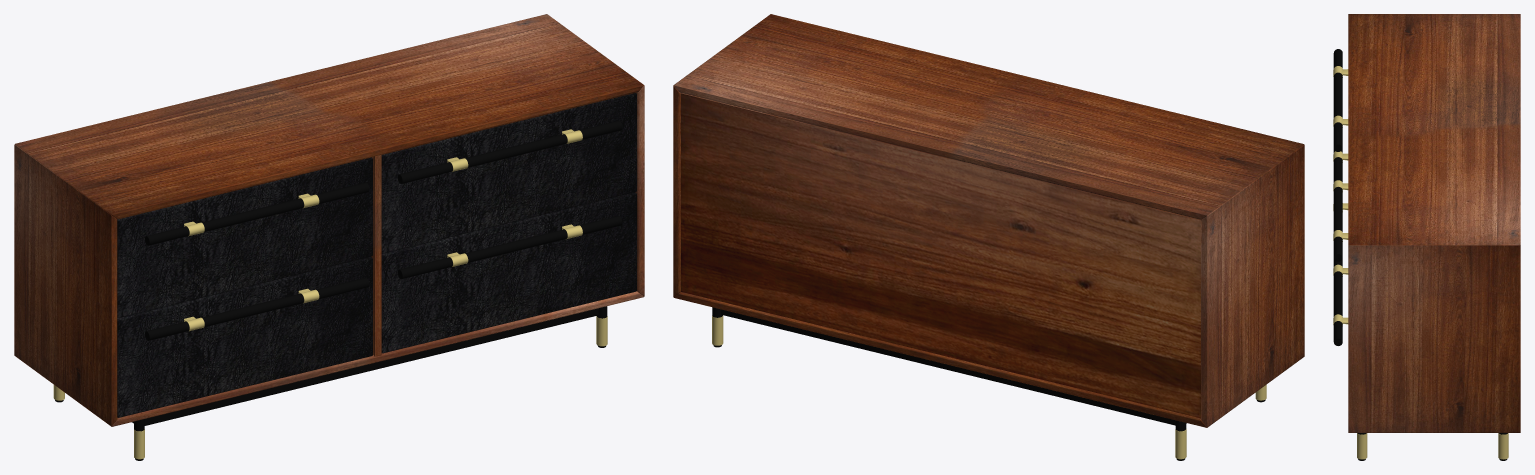
File: 3a15c481-57e4-436c-8aa6-5de85cef7c83.glb
The picture shows the model from 3 angles, left to right: view 1: azimuth 30°, elevation 25°; view 2: azimuth 150°, elevation 25°; view 3: azimuth 270°, elevation 25°; orthographic projection. The views are drawn at different scales.
Parts seen in each view (by area): view 1: id_feature-DXL0nd_variant-J6DMxX; view 2: id_feature-DXL0nd_variant-J6DMxX; view 3: id_feature-DXL0nd_variant-J6DMxX.
Part boxes in pixels (x1=…): id_feature-DXL0nd_variant-J6DMxX: x1=14, y1=14, x2=644, y2=460; id_feature-DXL0nd_variant-J6DMxX: x1=673, y1=14, x2=1304, y2=460; id_feature-DXL0nd_variant-J6DMxX: x1=1333, y1=14, x2=1520, y2=460.
Bounding box in the file's own units: 1.58 × 0.7319 × 0.5402.
1 material, 1 textured.
